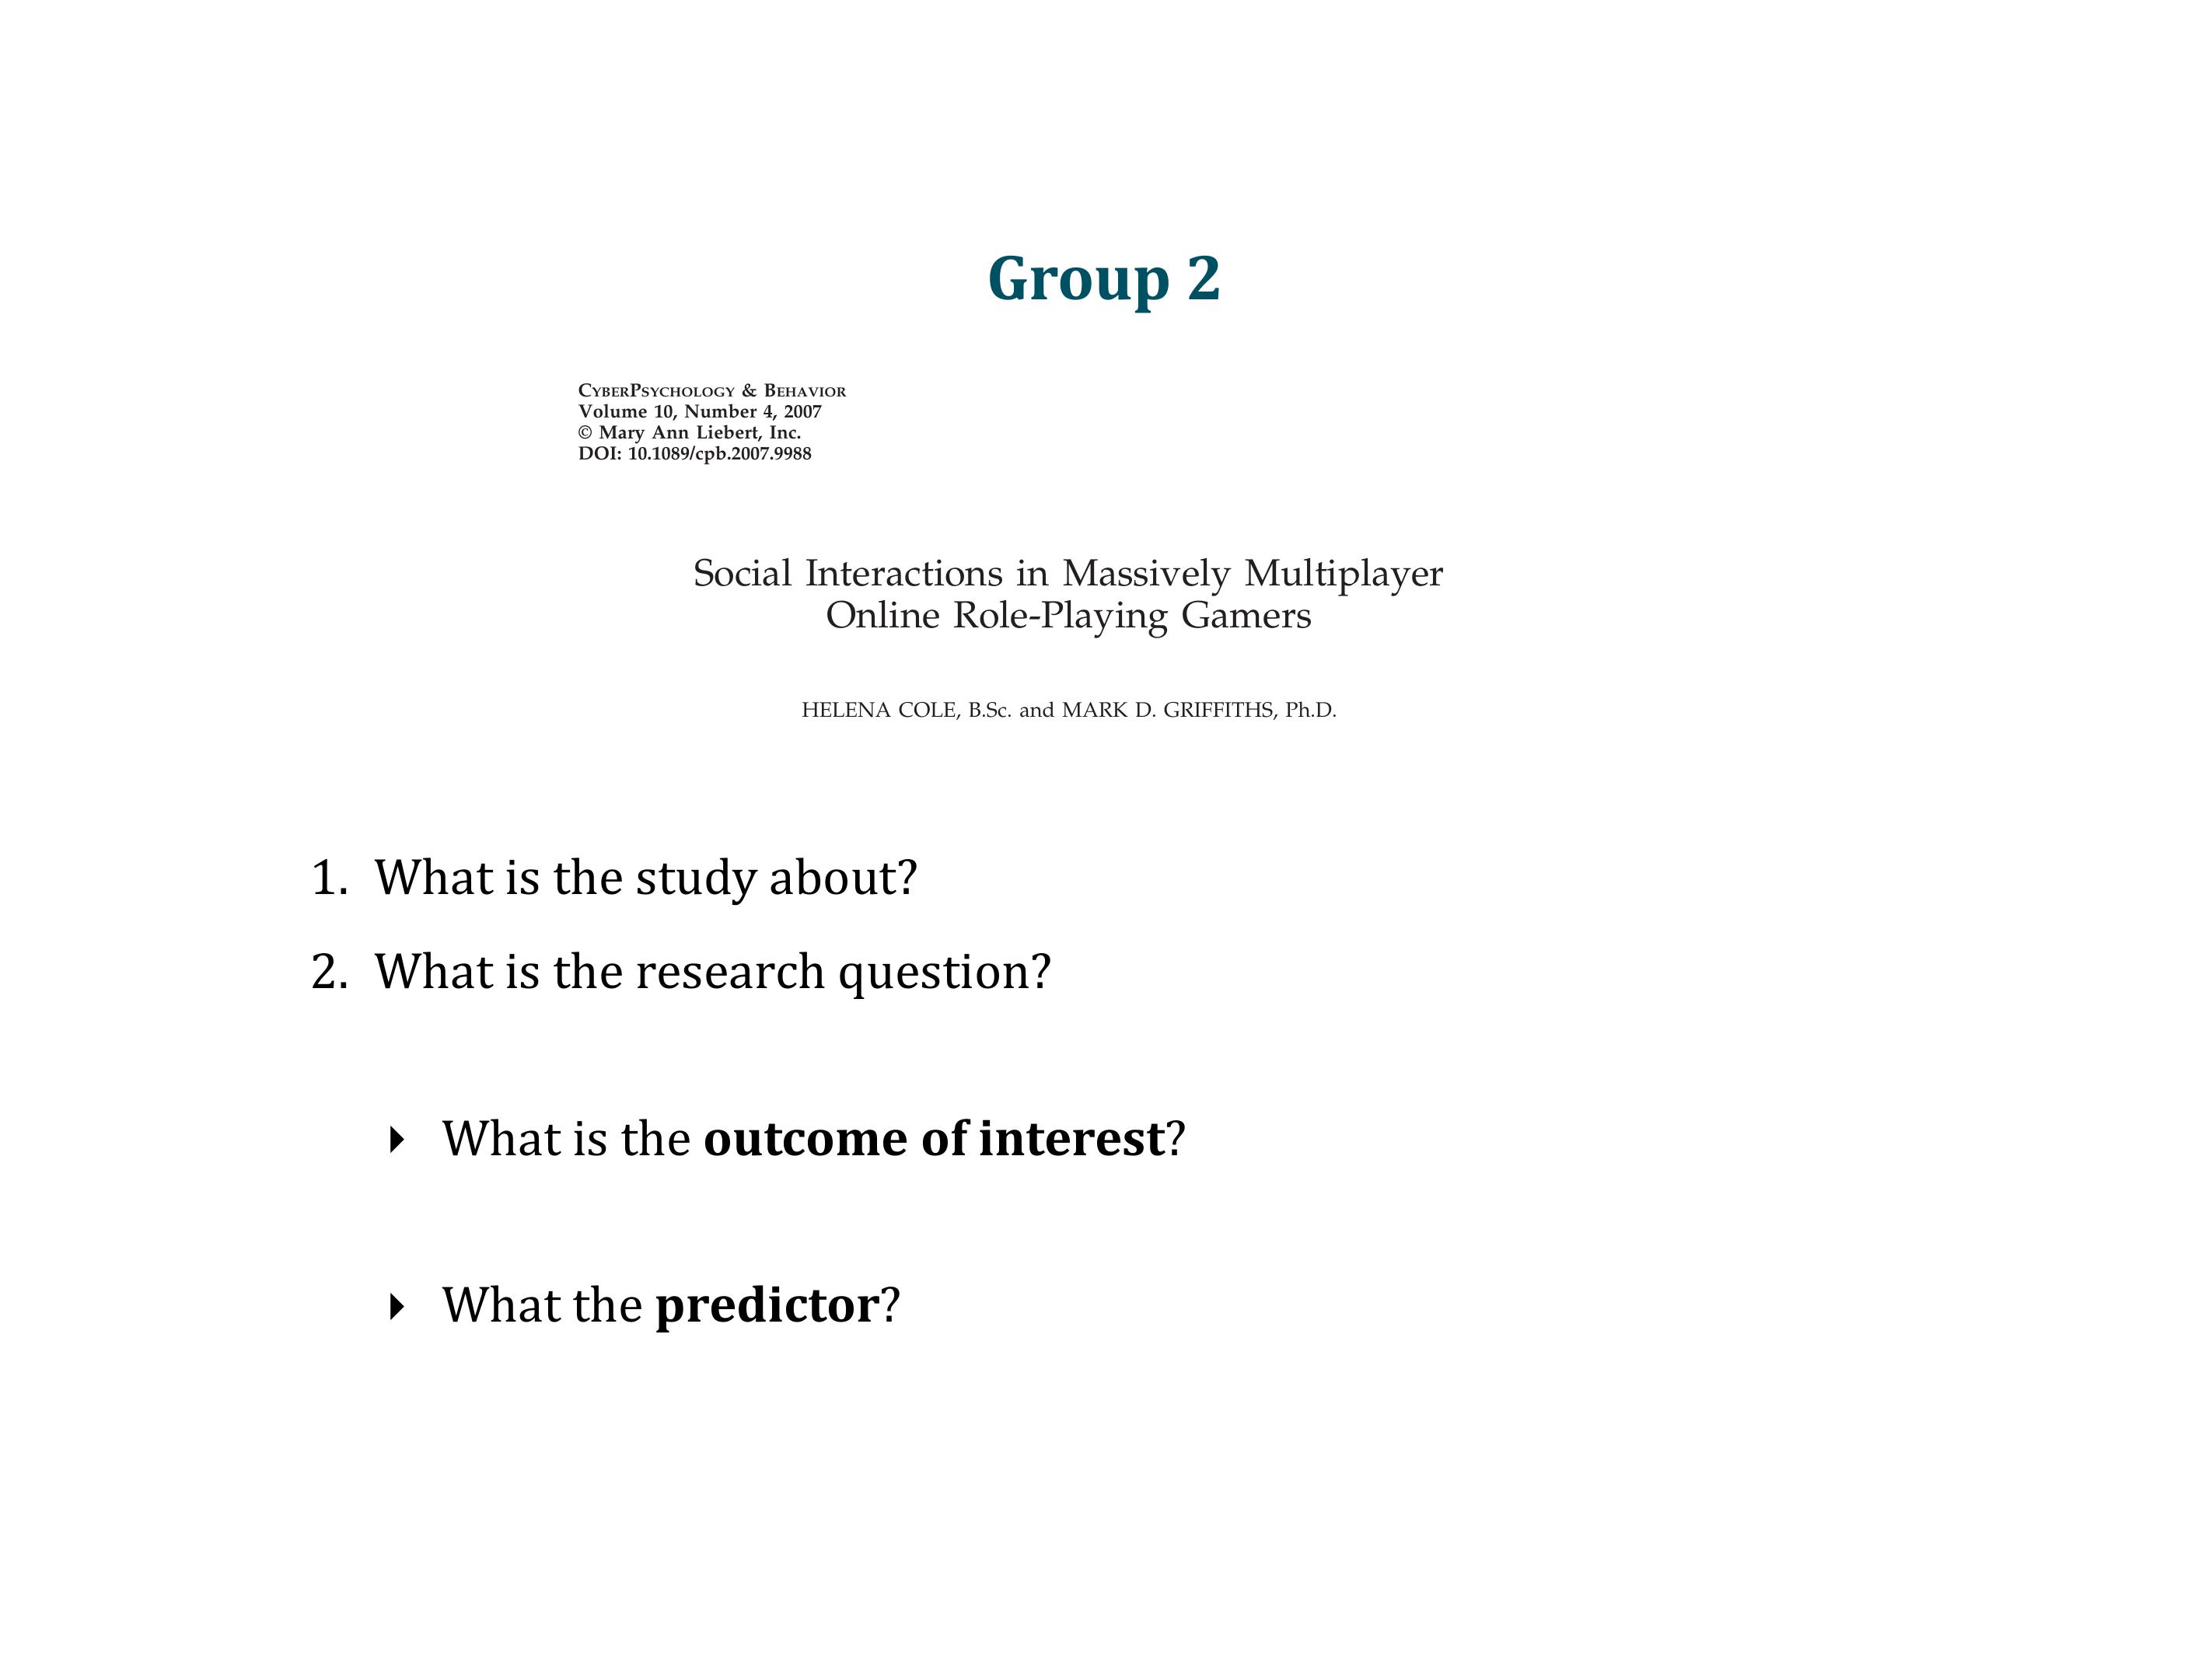Title: (966, 230, 1250, 319)
